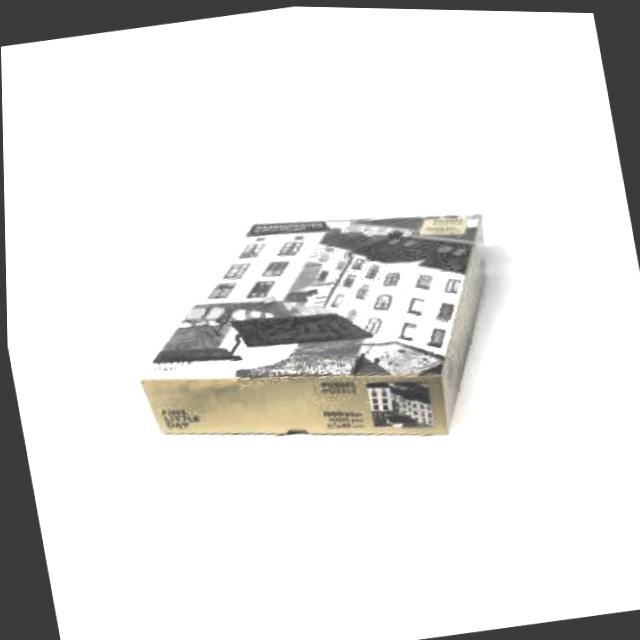Cardbox: (119, 186, 510, 474)
